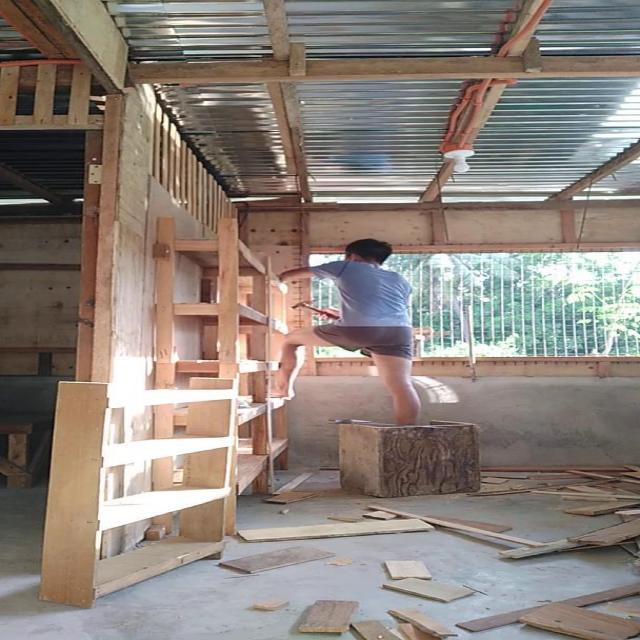hammer: (291, 299, 342, 320)
